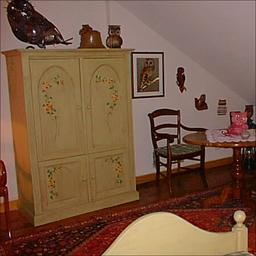Armario: (19, 52, 140, 210)
